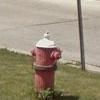Hydrant: (21, 28, 72, 92)
